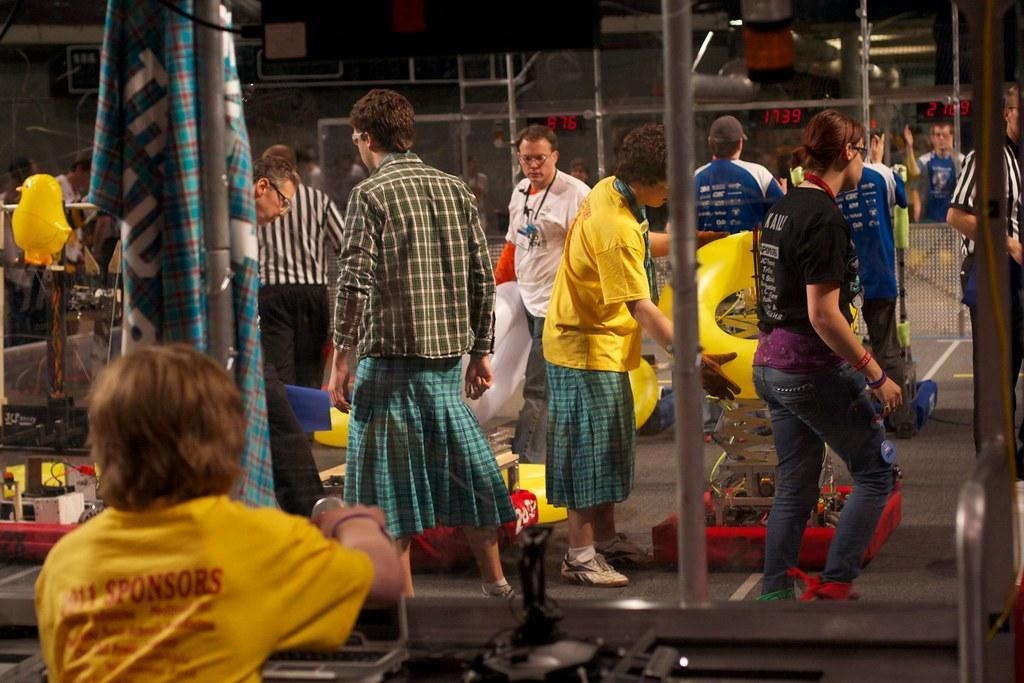robot: (643, 234, 912, 580), (3, 309, 142, 570), (307, 440, 543, 582), (142, 290, 350, 437)
